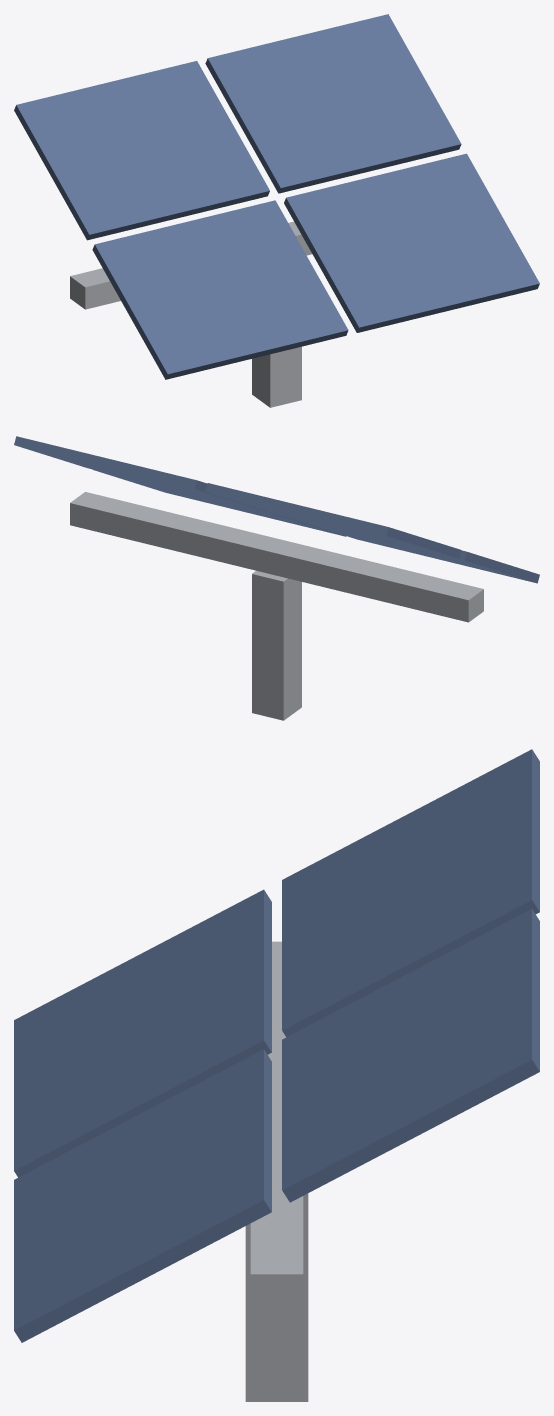
The model's file is PropSolarPanel.fbx.
The picture shows the model from 3 angles, top to bottom: view 1: azimuth 30°, elevation 25°; view 2: azimuth 150°, elevation 25°; view 3: azimuth 270°, elevation 25°; orthographic projection. The views are drawn at different scales.
Visible parts, largest first — view 1: Solar_Panel_03, Solar_Panel_02, Solar_Panel_01, Solar_Panel_04, Solar_Post, Solar_Crossbar; view 2: Solar_Crossbar, Solar_Post, Solar_Panel_01, Solar_Panel_02, Solar_Panel_03, Solar_Panel_04; view 3: Solar_Panel_02, Solar_Panel_04, Solar_Panel_01, Solar_Panel_03, Solar_Crossbar, Solar_Post.
Boxes of the visible parts, box(x1,y1,x2,y2) form: Solar_Panel_03: box(92, 200, 348, 379); Solar_Panel_02: box(205, 14, 461, 193); Solar_Panel_01: box(14, 61, 269, 240); Solar_Panel_04: box(284, 153, 539, 332); Solar_Post: box(252, 346, 301, 407); Solar_Crossbar: box(70, 221, 311, 309); Solar_Crossbar: box(70, 492, 483, 622); Solar_Post: box(252, 570, 301, 720); Solar_Panel_01: box(205, 483, 461, 558); Solar_Panel_02: box(14, 436, 267, 511); Solar_Panel_03: box(284, 516, 539, 583); Solar_Panel_04: box(92, 469, 346, 536); Solar_Panel_02: box(282, 909, 539, 1202); Solar_Panel_04: box(14, 1049, 271, 1342); Solar_Panel_01: box(282, 749, 539, 1036); Solar_Panel_03: box(14, 889, 271, 1177); Solar_Crossbar: box(250, 941, 303, 1312); Solar_Post: box(245, 1193, 308, 1401).
Bounding box in the file's own units: 1.5 × 1.02 × 1.
